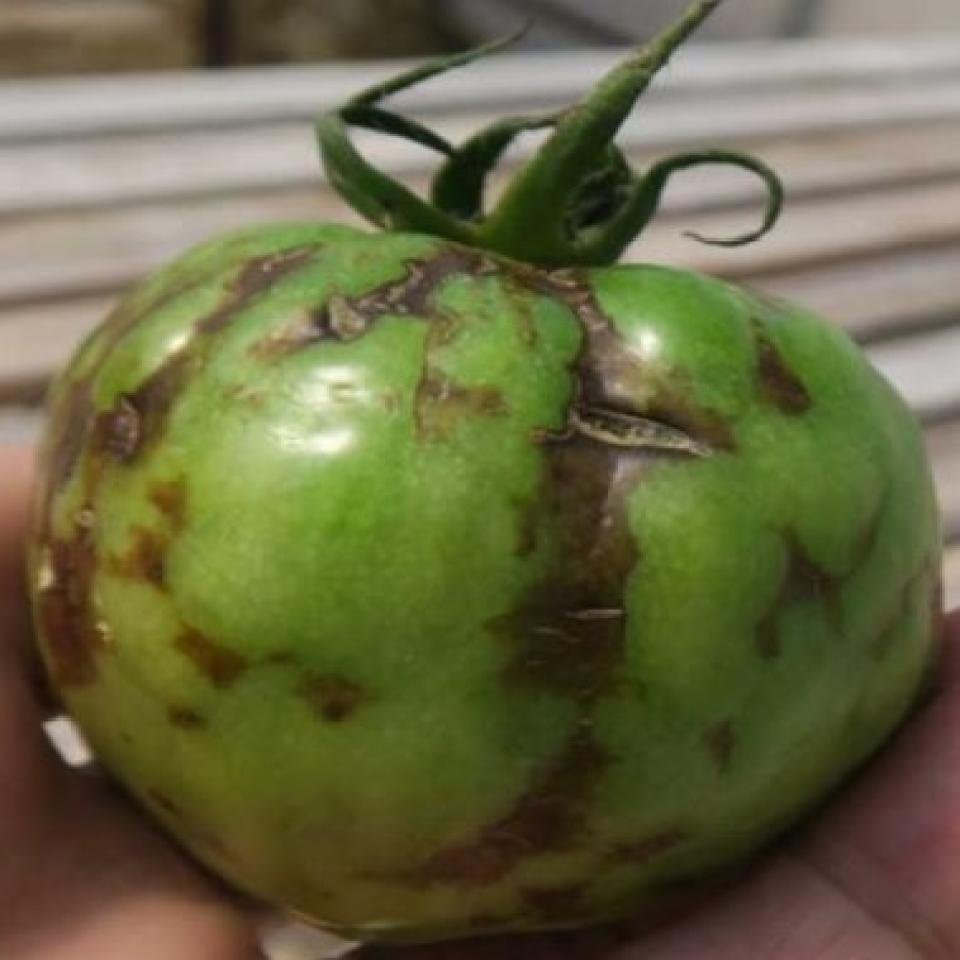Spotted wilt Virus: (38, 223, 942, 947)
